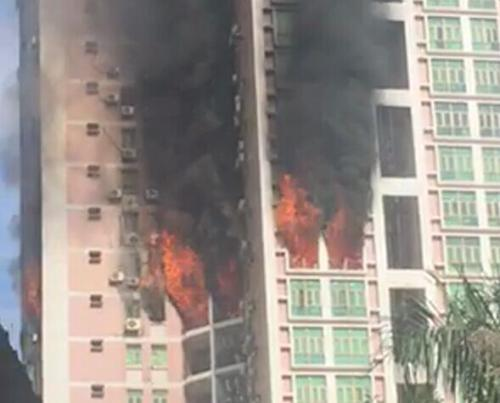fire: (156, 237, 250, 321)
fire1: (274, 184, 368, 273)
smoke: (124, 6, 373, 172)
